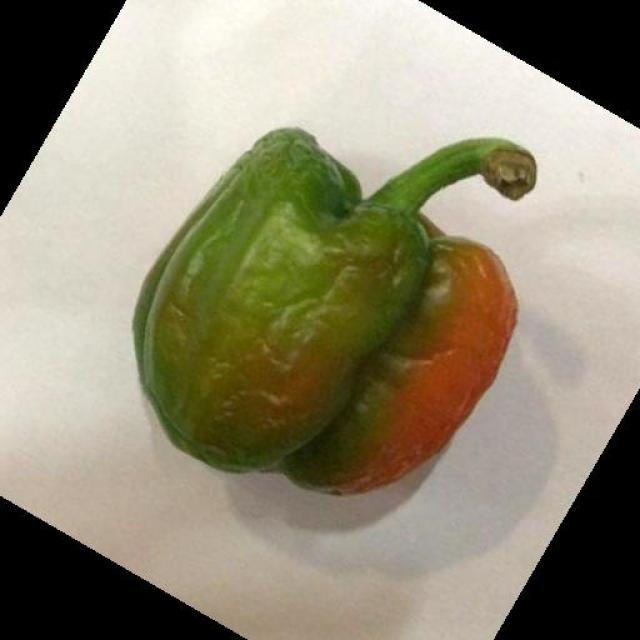Stale_Capsicum: (146, 102, 538, 484)
